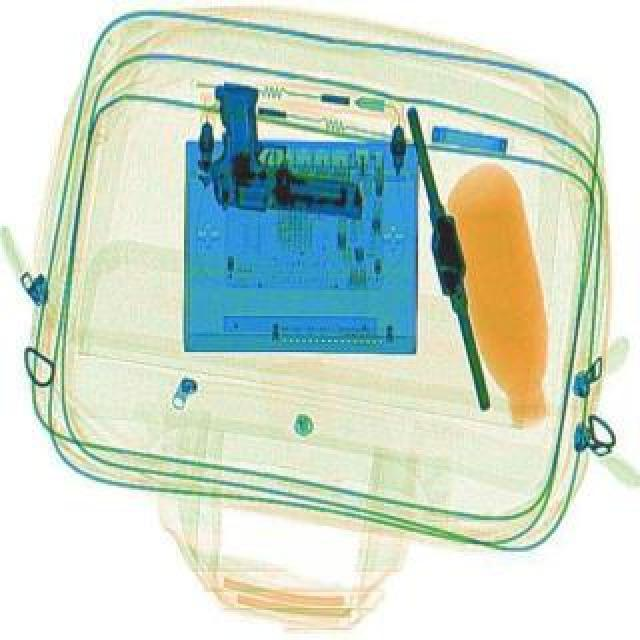gun: (190, 80, 378, 222)
